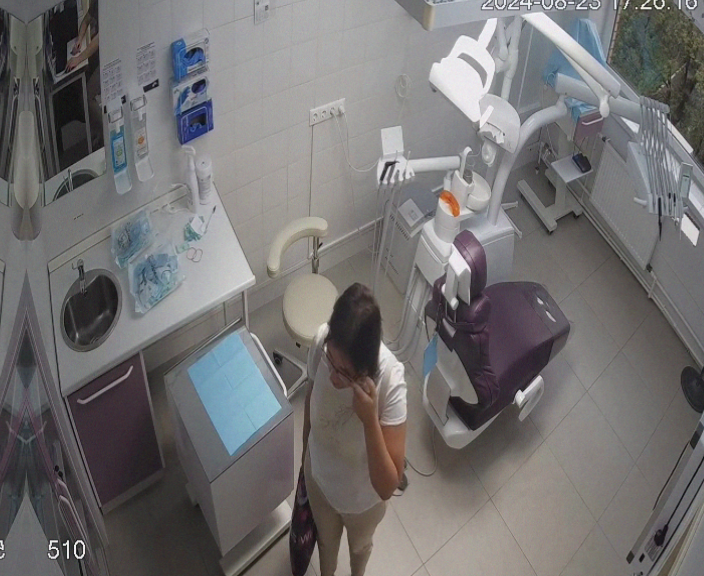Empty: (424, 232, 573, 449)
